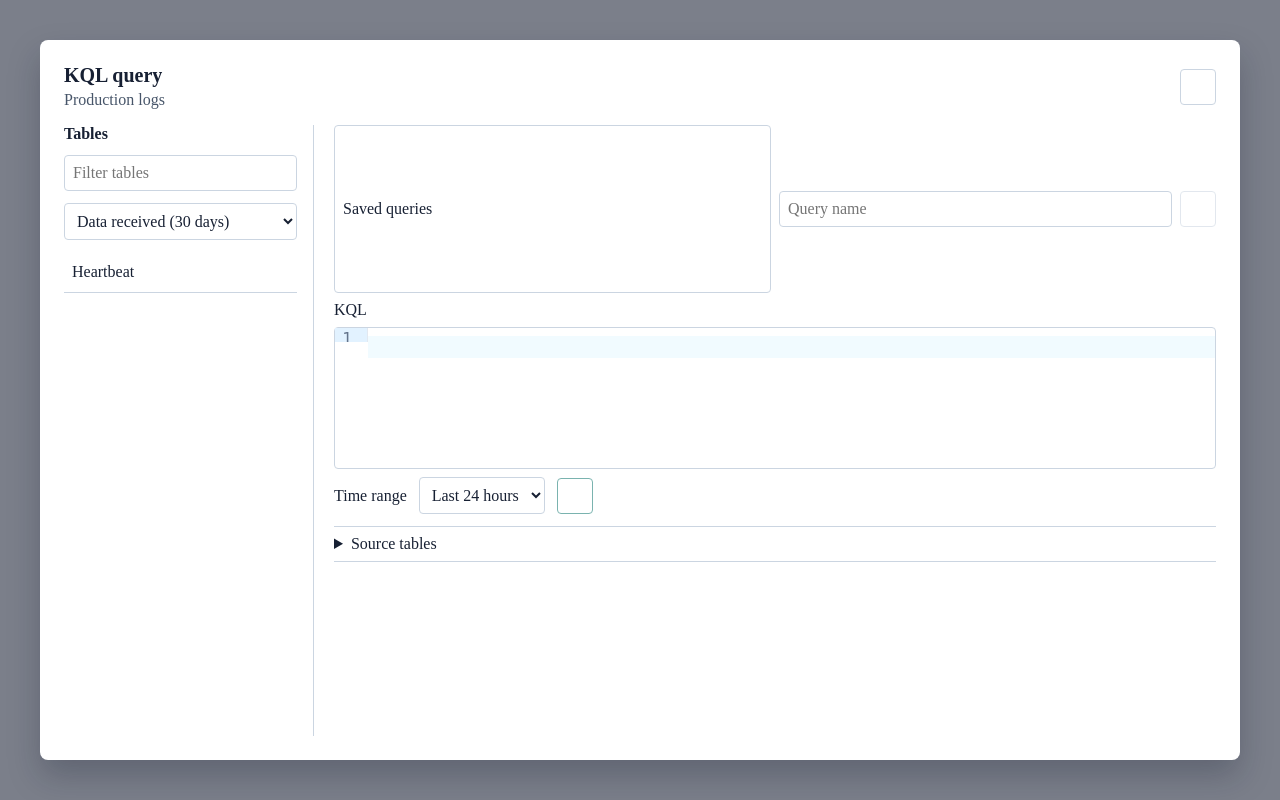
KqlComponent › filters by recent activity and switches to all tables without additional requests
Expected: the number of elements with class "table-row" is 1, x1=64 y1=252 x2=297 y2=293
Step 1. Select "All tables" in the dropdown named "Table scope" → (180, 222), box x1=64 y1=203 x2=297 y2=240
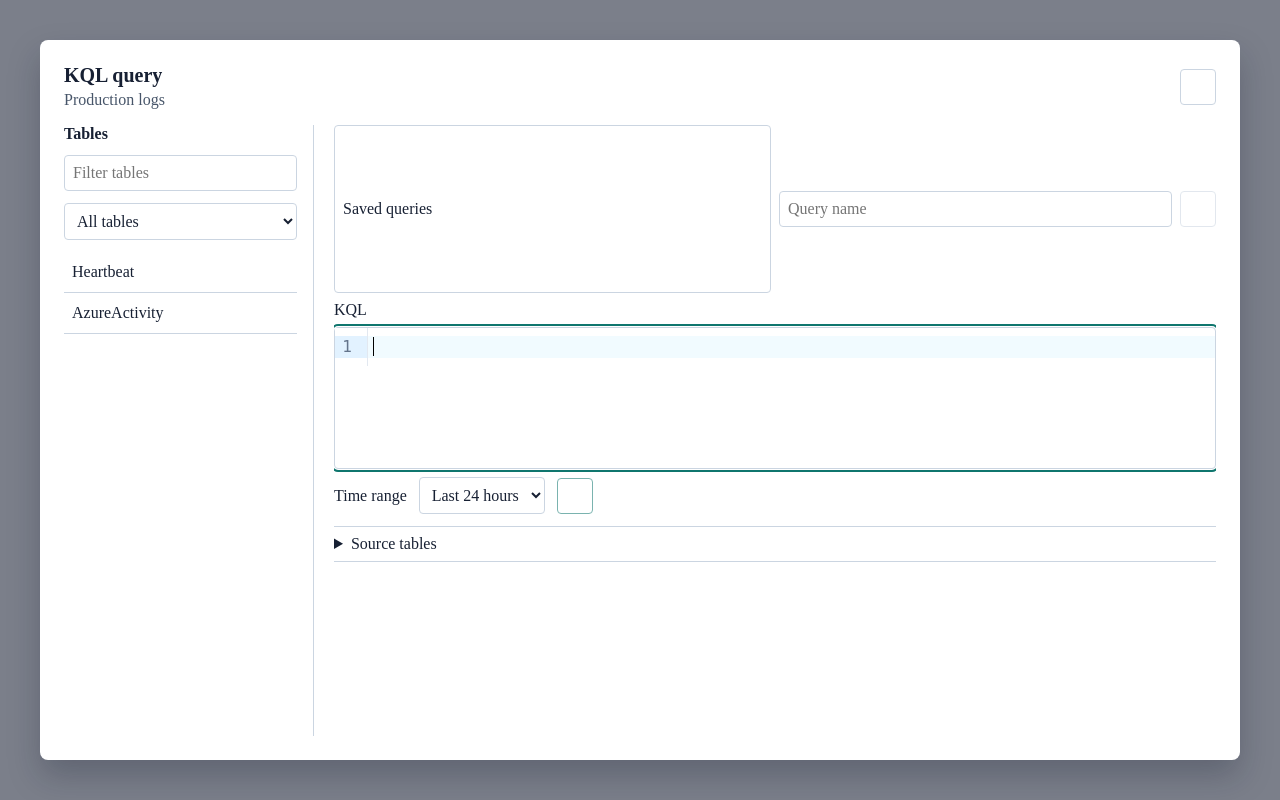
Now the number of elements with class "table-row" is 2, box x1=64 y1=252 x2=297 y2=293; x1=64 y1=293 x2=297 y2=334
